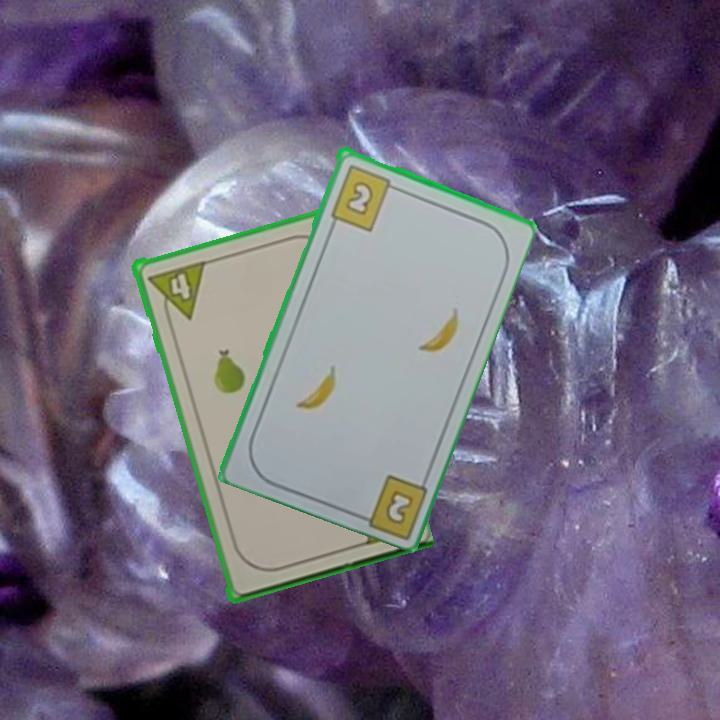2b: (326, 160, 401, 233), (381, 486, 417, 527)
4p: (143, 257, 207, 326)
